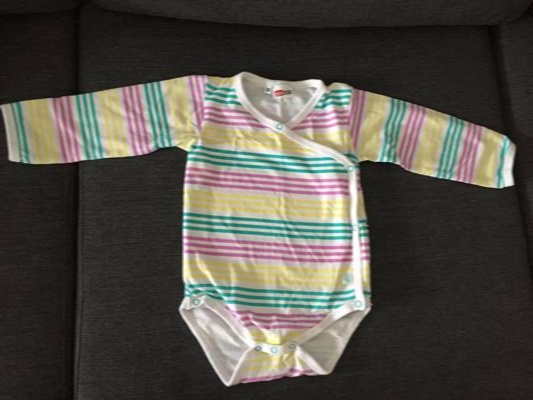Body: (10, 55, 519, 395)
